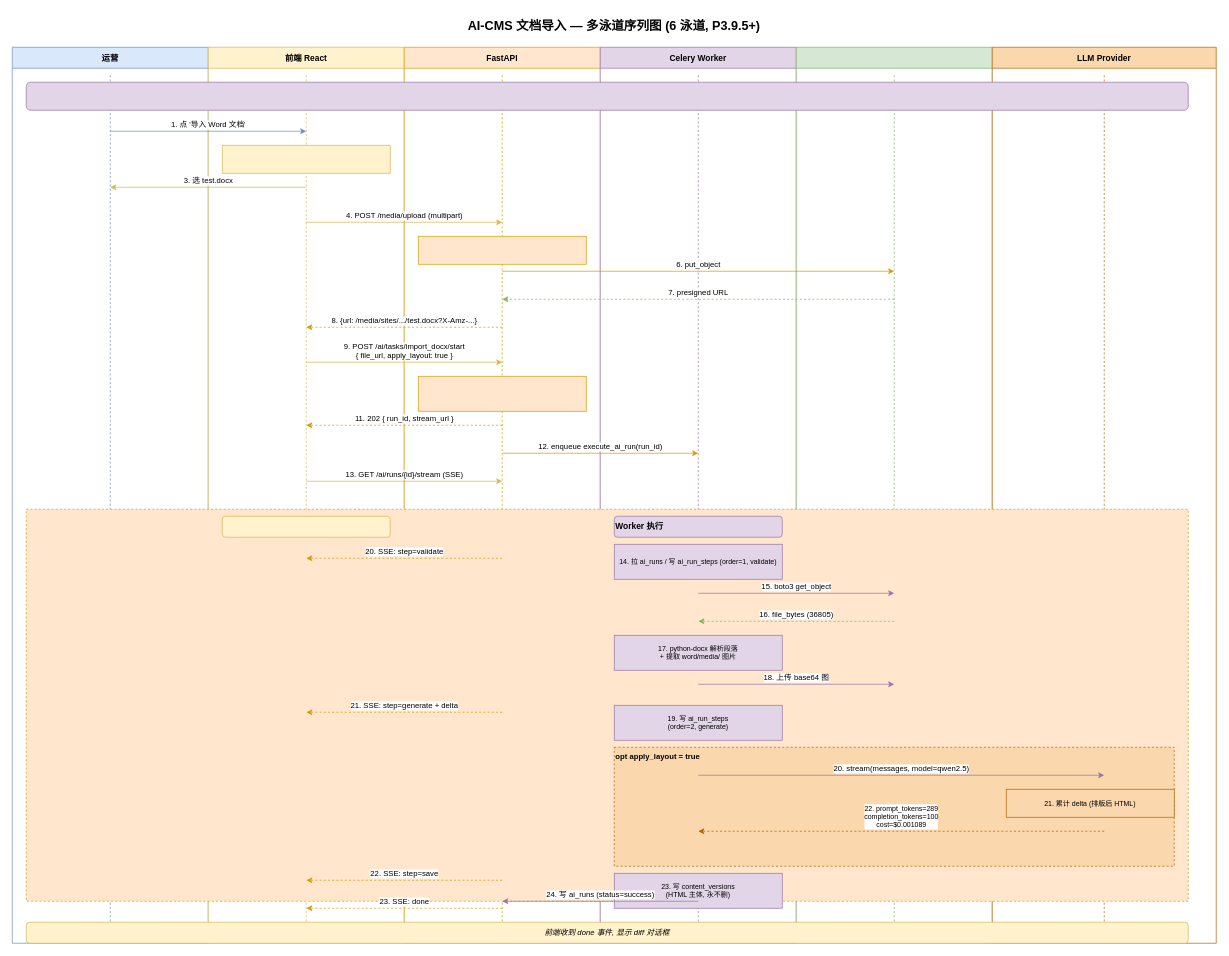
The diagram is 1229 pixels wide and 956 high, and some of its shapes have lost their labels. Each missing label, with the box of its shape:
10. 写 ai_runs (status=pending) + ai_run_steps (validate, order=1): (418, 376, 586, 411)
2. 隐藏 file input.click(): (222, 145, 390, 173)
5. boto3 put_object: (418, 236, 586, 264)
MinIO: (796, 47, 992, 943)
par (并行): (26, 509, 1188, 901)
前端 SSE 推送: (222, 516, 390, 537)
场景: 用户在 ContentDetail 点 '导入 Word 文档' 按钮: (26, 82, 1188, 110)
